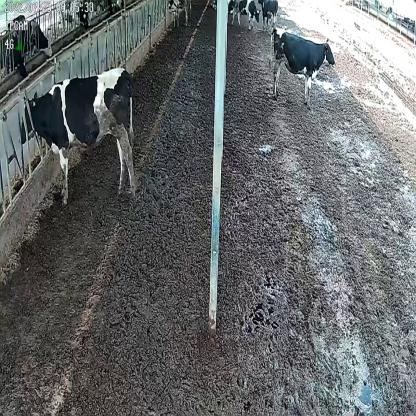cow: (18, 67, 139, 198), (268, 26, 335, 108), (236, 0, 262, 32)
